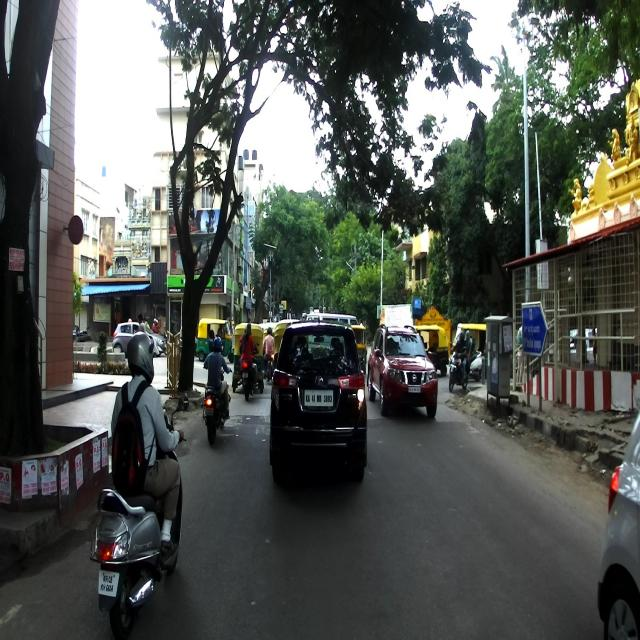Car_Nissan: (366, 324, 438, 418)
Car_Toyota: (268, 315, 368, 487)
motorcycle_bajaj: (200, 362, 232, 446)
scooter: (92, 398, 184, 640)
